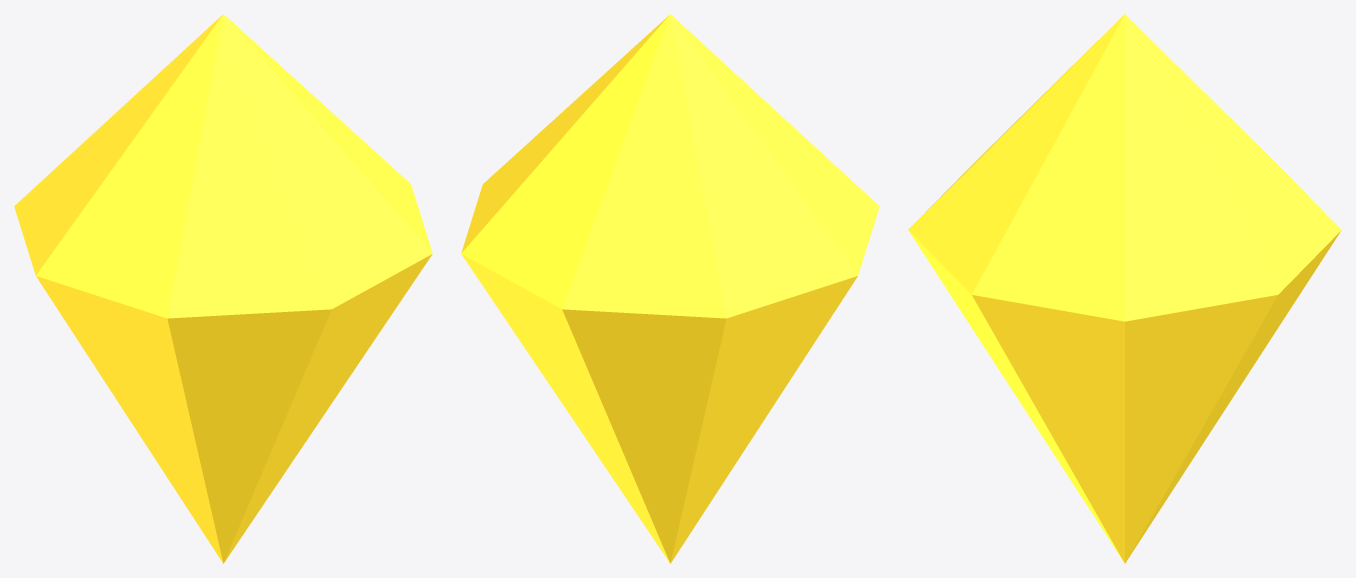
Rendered from cristal.glb.
3 views of the same model, side by side, from view 1: azimuth 30°, elevation 25°; view 2: azimuth 150°, elevation 25°; view 3: azimuth 270°, elevation 25° (orthographic).
Parts seen in each view (by area): view 1: Cristal; view 2: Cristal; view 3: Cristal.
Part boxes in pixels (left/top/right/bottom): Cristal: left=14, top=14, right=432, bottom=563; Cristal: left=461, top=14, right=879, bottom=563; Cristal: left=908, top=14, right=1341, bottom=563.
Size of the model in its own units: 1 by 1.4 by 1.
